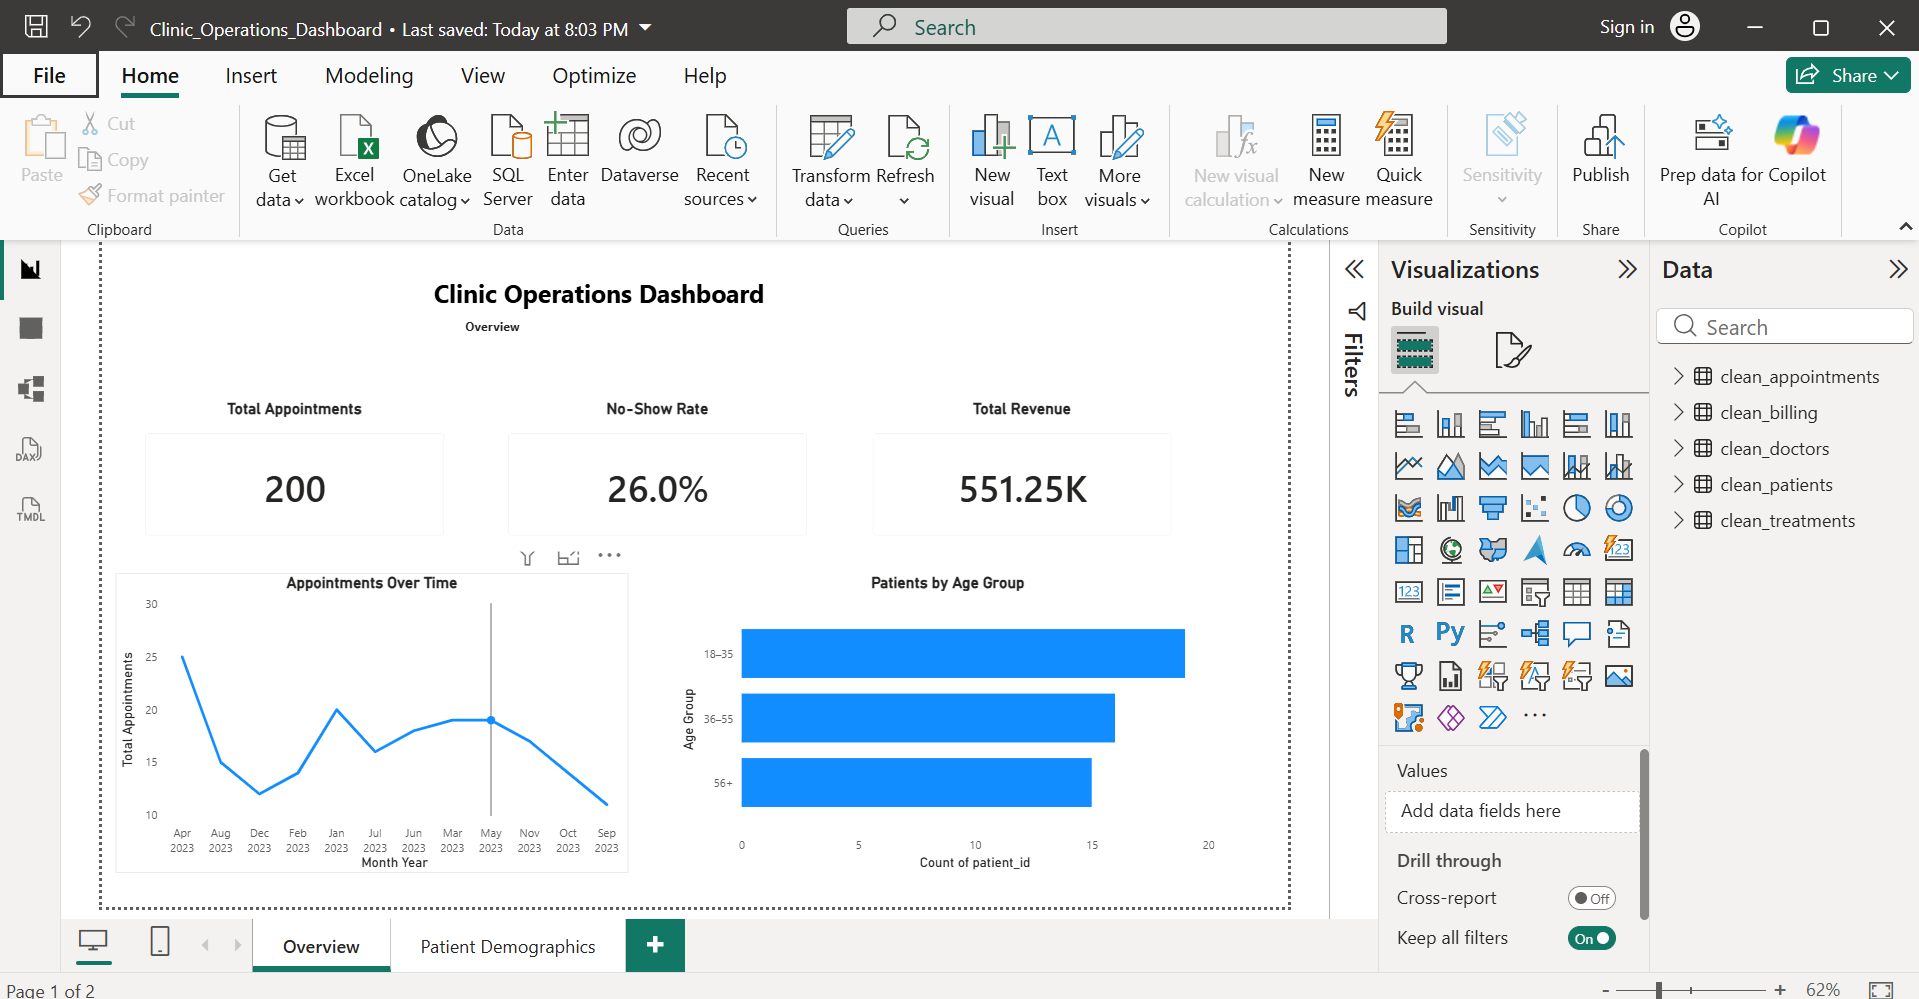

Layout of this report page (visuals, bound fields, positions):
{"tool":"powerbi","page":{"name":"Overview","canvas":[1280,720],"ordinal":0},"visuals":[{"type":"cardVisual","title":"Total Appointments","fields":{"Data":["clean_appointments.Total Appointments"]},"box":[28.3,172,357.2,164.4],"z":0},{"type":"lineChart","title":"Appointments Over Time","fields":{"Category":["clean_appointments.Month Year"],"Y":["clean_appointments.Total Appointments"]},"box":[15.1,359.1,553.7,325],"z":1000},{"type":"clusteredBarChart","title":"Patients by Age Group","fields":{"Category":["clean_patients.Age Group"],"Y":["CountNonNull(clean_patients.patient_id)"]},"box":[619.8,359.1,585.8,325],"z":2000},{"type":"cardVisual","title":"No-Show Rate","fields":{"Data":["clean_appointments.No Show Rate"]},"box":[421.4,172,357.2,164.4],"z":3000},{"type":"cardVisual","title":"Total Revenue","fields":{"Data":["clean_appointments.Total Revenue"]},"box":[814.5,172,357.2,164.4],"z":4000},{"type":"shape","box":[28.3,17,1177.3,120.9],"z":5000},{"type":"textbox","box":[353.4,34,672.8,73.7],"z":6000},{"type":"textbox","box":[387,77.7,252.6,30.8],"z":7000}]}

Visuals, with their boxes on the page's 1280x720 design canvas (x1, y1, x2, y2). These are canvas units, not pixel positions in the 1919x999 screenshot, which may show the page scaled, cropped or inside an application window:
"Total Appointments" cardVisual: Rect(28, 172, 386, 336)
"Appointments Over Time" lineChart: Rect(15, 359, 569, 684)
"Patients by Age Group" clusteredBarChart: Rect(620, 359, 1206, 684)
"No-Show Rate" cardVisual: Rect(421, 172, 779, 336)
"Total Revenue" cardVisual: Rect(814, 172, 1172, 336)
shape: Rect(28, 17, 1206, 138)
textbox: Rect(353, 34, 1026, 108)
textbox: Rect(387, 78, 640, 108)
